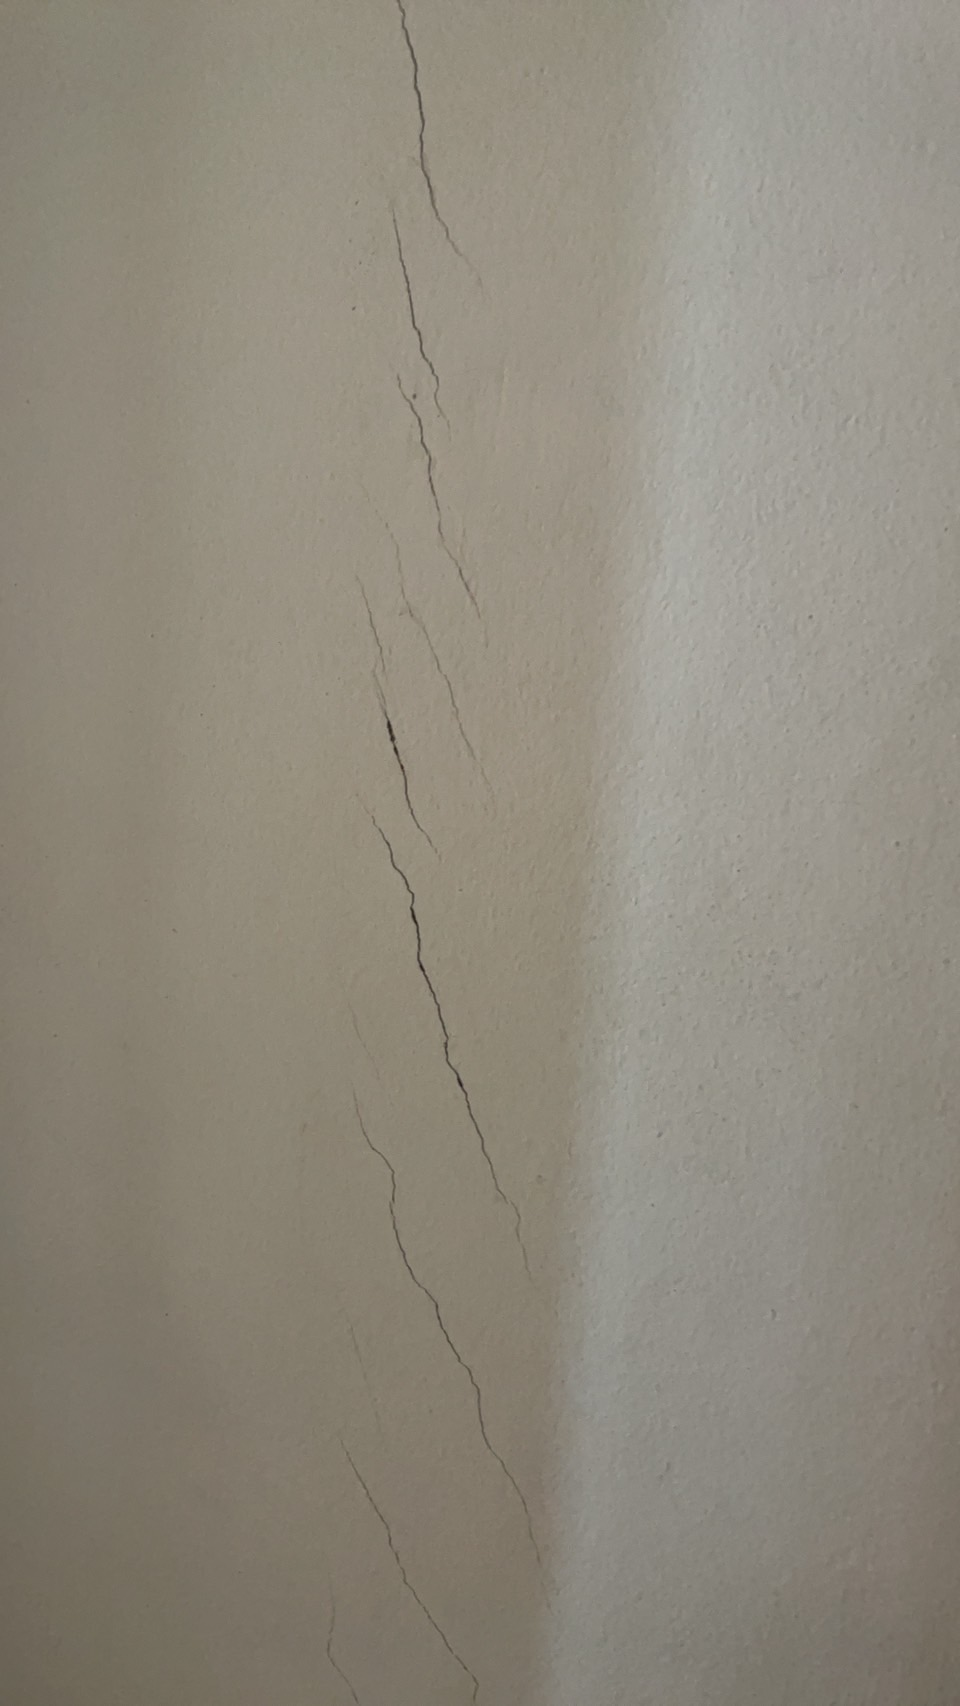Low: (248, 1, 644, 1706)
